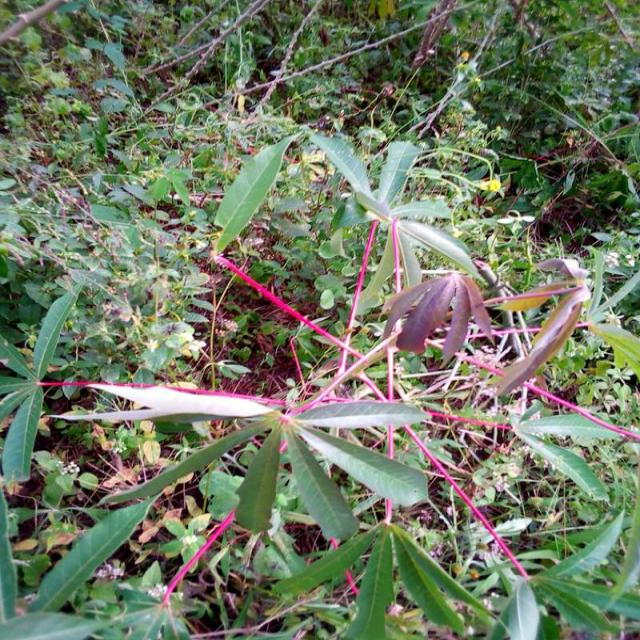cassava leaf: (214, 131, 296, 255)
